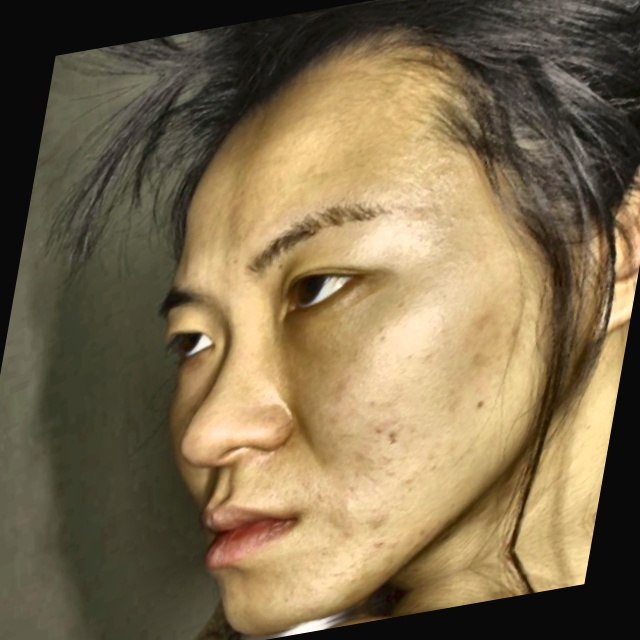comedone: (360, 495, 404, 540), (401, 510, 441, 552)
